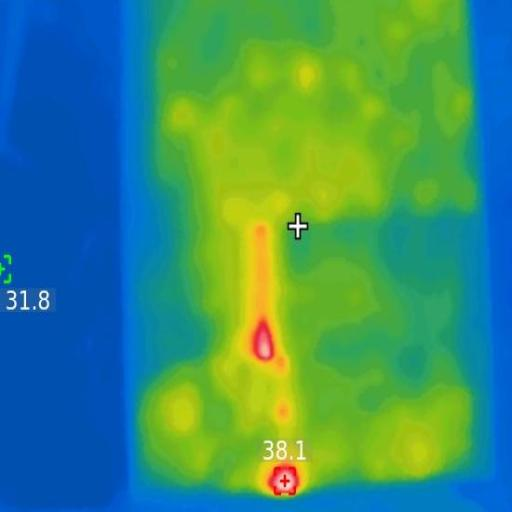hotspot: (248, 318, 278, 364), (266, 462, 303, 498)
